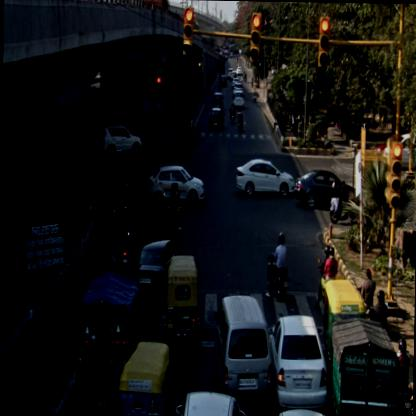car: (266, 310, 328, 412)
motorcycle: (264, 230, 291, 300), (393, 336, 414, 415), (312, 247, 337, 311), (328, 180, 357, 224), (116, 222, 130, 276), (173, 199, 185, 248), (236, 109, 244, 131), (228, 102, 235, 125)
truck: (74, 270, 140, 414), (327, 314, 395, 415), (211, 292, 272, 404), (129, 236, 180, 306), (148, 164, 206, 209), (236, 156, 296, 199), (294, 169, 354, 210), (174, 390, 248, 416), (95, 121, 141, 160), (173, 122, 198, 150), (209, 106, 223, 128), (213, 90, 223, 112), (233, 92, 245, 108), (218, 72, 226, 86), (235, 66, 241, 76)
